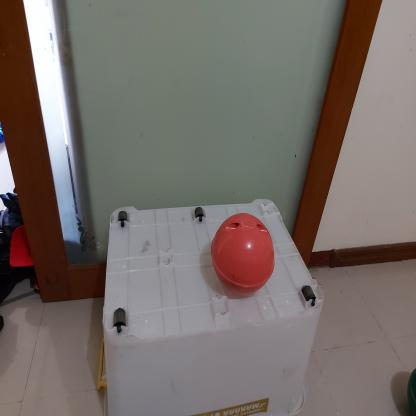green_buoy: (405, 365, 416, 416)
red_buoy: (209, 210, 278, 296)
